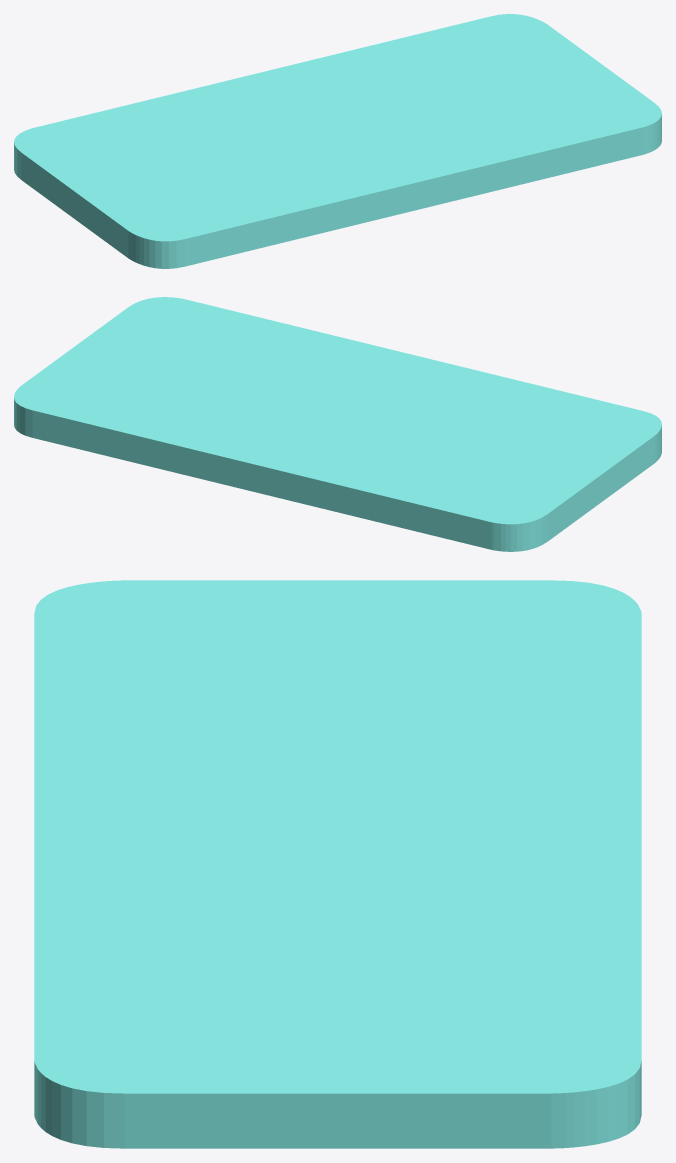
The model's file is field.obj.
3 renders of one model, top to bottom at view 1: azimuth 30°, elevation 25°; view 2: azimuth 150°, elevation 25°; view 3: azimuth 270°, elevation 25°, orthographic. The views are drawn at different scales.
Parts seen in each view (by area): view 1: Curve_Mesh; view 2: Curve_Mesh; view 3: Curve_Mesh.
Boxes of the visible parts, x1,y1,x2,y2 form: Curve_Mesh: (14,14,661,268); Curve_Mesh: (14,297,661,551); Curve_Mesh: (34,580,641,1148).
Size of the model in its own units: 10 by 0.5004 by 5.
1 material, 1 textured.
